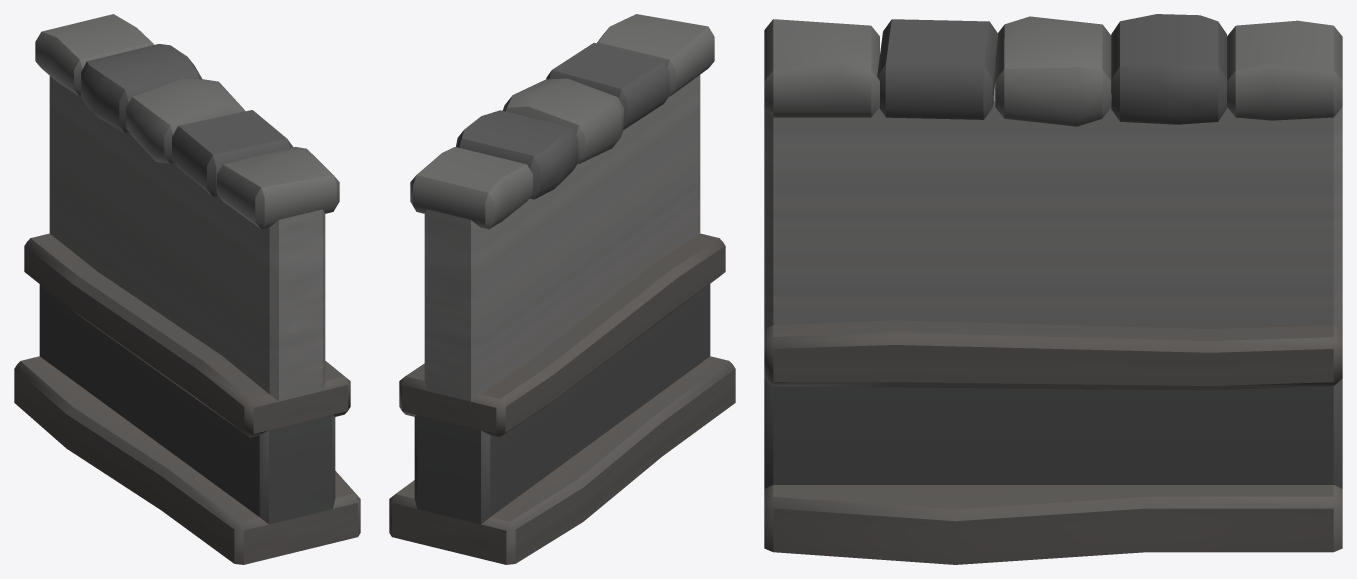
Rendered from Wall_1_2.obj.
3 views of the same model, side by side, from view 1: azimuth 30°, elevation 25°; view 2: azimuth 150°, elevation 25°; view 3: azimuth 270°, elevation 25° (orthographic). The views are drawn at different scales.
Visible parts, largest first — view 1: Wall_1_2; view 2: Wall_1_2; view 3: Wall_1_2.
Boxes of the visible parts, <box> form: Wall_1_2: <box>14,14,360,564</box>; Wall_1_2: <box>389,14,735,564</box>; Wall_1_2: <box>764,14,1342,564</box>.
Bounding box in the file's own units: 0.7661 × 1.78 × 1.95.
